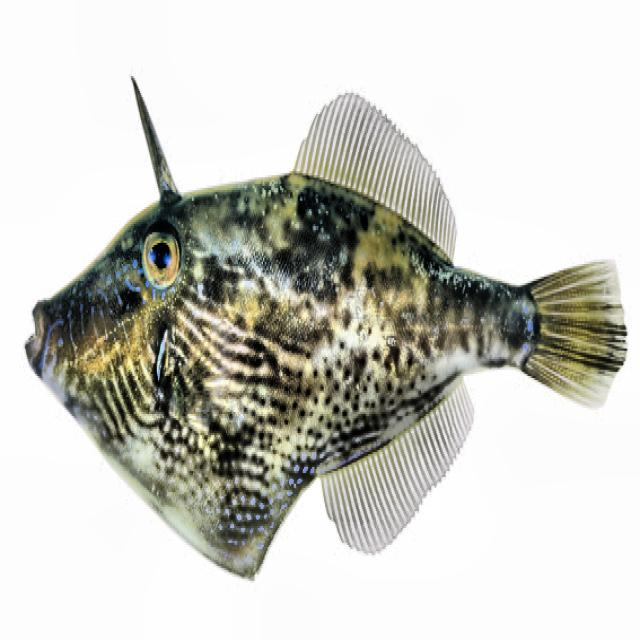fish: (23, 73, 630, 582)
